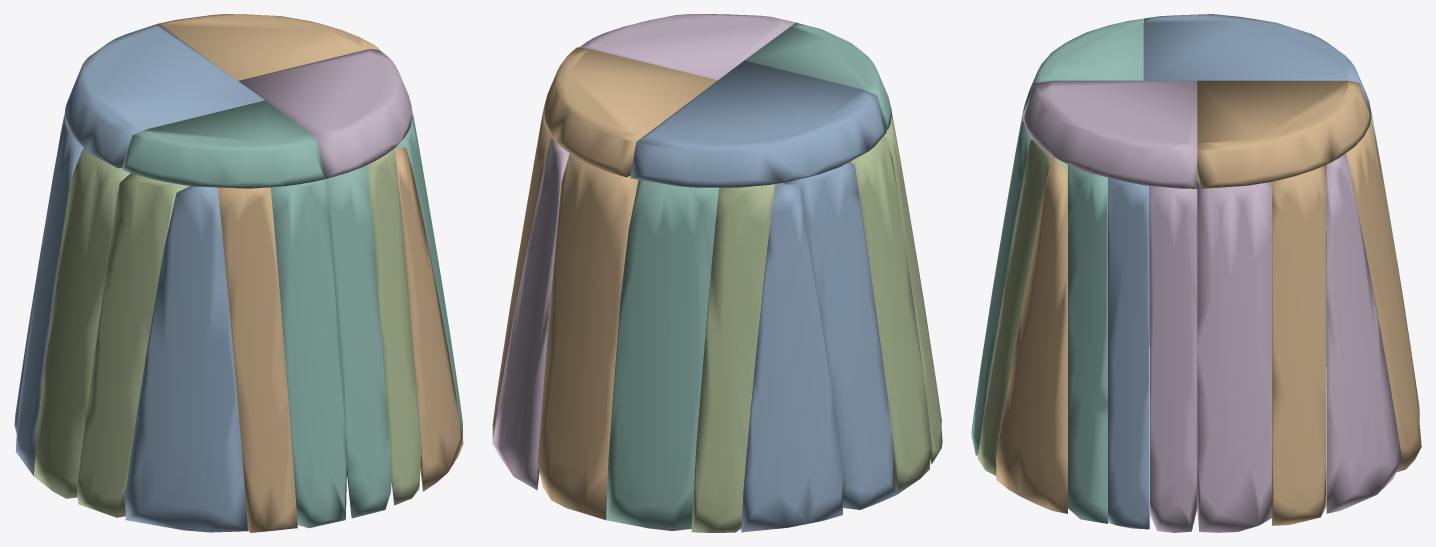
3 renders of one model, left to right at view 1: azimuth 30°, elevation 25°; view 2: azimuth 150°, elevation 25°; view 3: azimuth 270°, elevation 25°, orthographic.
Size of the model in its own units: 1.51 by 1.33 by 1.51.
